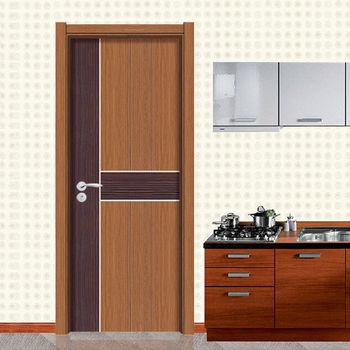door: (69, 35, 183, 331)
